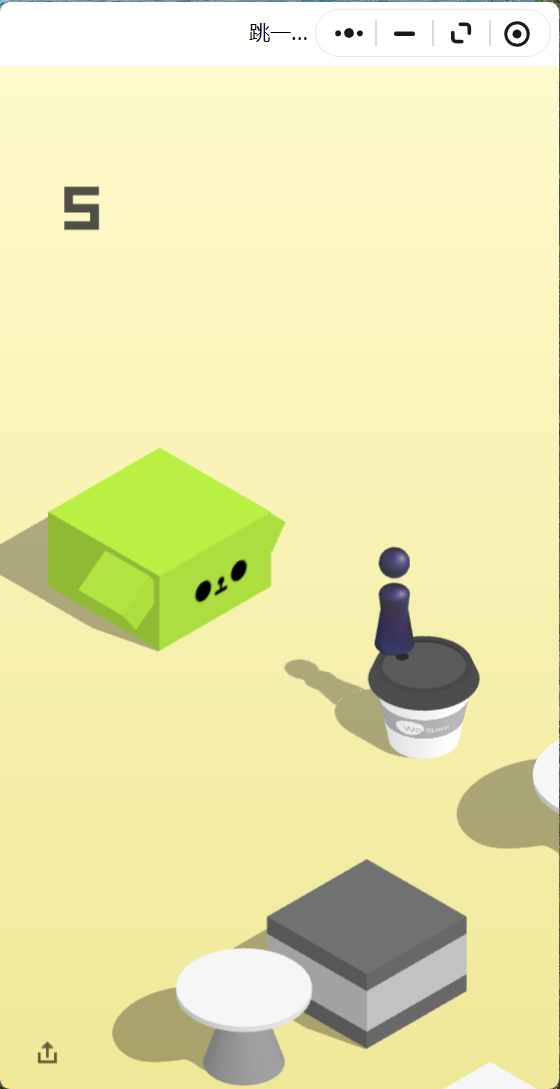piece: (379, 546, 410, 650)
target: (48, 447, 270, 575)
